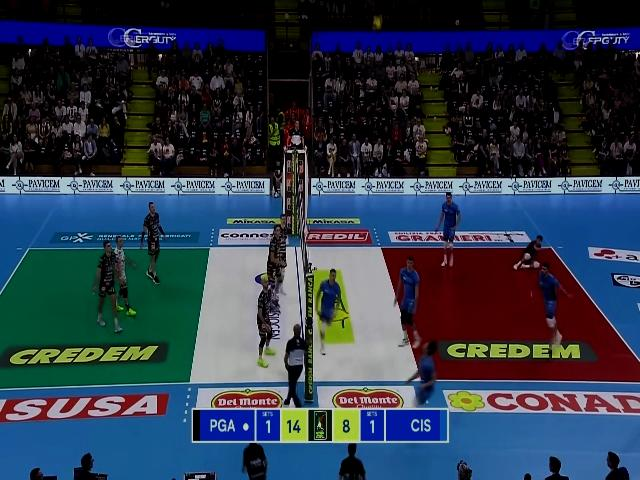volleyball court: (0, 243, 638, 382)
